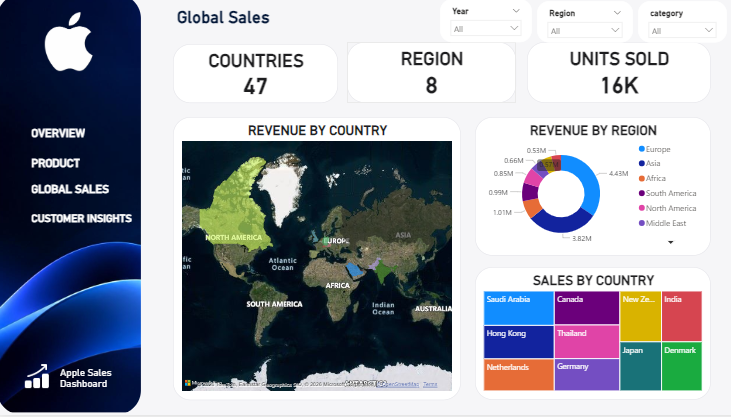

The dashboard page shown, as its layout file describes it:
{"tool":"powerbi","page":{"name":"Global Sales","canvas":[1280,720],"ordinal":2},"visuals":[{"type":"card","title":"COUNTRIES","fields":{"Values":["apple_global_sales_dataset (1).Total Countries"]},"box":[300.8,85.4,282,100.8],"z":0},{"type":"card","title":"UNITS SOLD","fields":{"Values":["apple_global_sales_dataset (1).Total Units Sold"]},"box":[905.7,82,314.4,104.2],"z":1000},{"type":"card","title":"REGION","fields":{"Values":["Count(apple_global_sales_dataset (1).region)"]},"box":[598.1,82,288.8,104.2],"z":2000},{"type":"filledMap","title":"REVENUE BY COUNTRY","fields":{"Y":["apple_global_sales_dataset (1).Total Revenue"],"Category":["apple_global_sales_dataset (1).country"],"Series":["apple_global_sales_dataset (1).revenue_usd"]},"box":[300.7,210,492.2,483.8],"z":3000},{"type":"donutChart","title":"REVENUE BY REGION","fields":{"Y":["apple_global_sales_dataset (1).Total Revenue"],"Category":["apple_global_sales_dataset (1).region"]},"box":[816.4,210,403.1,236.9],"z":4000},{"type":"treemap","title":"SALES BY COUNTRY","fields":{"Group":["apple_global_sales_dataset (1).country"],"Values":["apple_global_sales_dataset (1).Total Revenue"]},"box":[816.4,467,403.1,226.8],"z":5000},{"type":"image","box":[0,0,246.1,719.5],"z":5001},{"type":"image","box":[25.6,30.8,194.8,100.8],"z":5002},{"type":"shape","title":"Apple Sales Dashboard","box":[107.7,637.8,151.7,53.9],"z":5003},{"type":"image","box":[43.9,618,46.8,69.4],"z":5004},{"type":"actionButton","box":[53.9,209.8,223.9,53.9],"z":5005},{"type":"actionButton","box":[53.9,360,219.7,45.4],"z":5006},{"type":"actionButton","box":[53.9,306.1,223.9,53.9],"z":5007},{"type":"actionButton","box":[53.9,262.2,223.9,53.9],"z":5008},{"type":"textbox","box":[303.3,17,358.6,53.9],"z":5009},{"type":"slicer","title":"Year","fields":{"Values":["apple_global_sales_dataset (1).sale_date.Variation.Date Hierarchy.Year"]},"box":[756.9,8.5,157.3,73.7],"z":5010},{"type":"slicer","fields":{"Values":["apple_global_sales_dataset (1).category"]},"box":[1095.6,12.8,151.7,70.9],"z":5011},{"type":"slicer","fields":{"Values":["apple_global_sales_dataset (1).region"]},"box":[922.7,12.8,164.4,70.9],"z":5012}]}

Visuals, with their boxes in screenshot pixels (x1, y1, x2, y2), scaled from the page's 1280x720 canvas onto the 731x417 screenshot:
"COUNTRIES" card: x1=172, y1=49, x2=333, y2=108
"UNITS SOLD" card: x1=517, y1=47, x2=697, y2=108
"REGION" card: x1=342, y1=47, x2=507, y2=108
"REVENUE BY COUNTRY" filledMap: x1=172, y1=122, x2=453, y2=402
"REVENUE BY REGION" donutChart: x1=466, y1=122, x2=696, y2=259
"SALES BY COUNTRY" treemap: x1=466, y1=270, x2=696, y2=402
image: x1=0, y1=0, x2=141, y2=416
image: x1=15, y1=18, x2=126, y2=76
"Apple Sales Dashboard" shape: x1=62, y1=369, x2=148, y2=401
image: x1=25, y1=358, x2=52, y2=398
actionButton: x1=31, y1=122, x2=159, y2=153
actionButton: x1=31, y1=209, x2=156, y2=235
actionButton: x1=31, y1=177, x2=159, y2=209
actionButton: x1=31, y1=152, x2=159, y2=183
textbox: x1=173, y1=10, x2=378, y2=41
"Year" slicer: x1=432, y1=5, x2=522, y2=48
slicer - apple_global_sales_dataset (1).category: x1=626, y1=7, x2=712, y2=48
slicer - apple_global_sales_dataset (1).region: x1=527, y1=7, x2=621, y2=48
